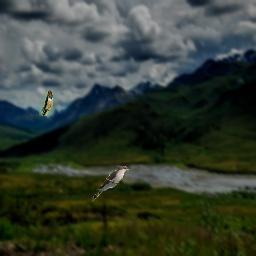Cuckoo: (90, 166, 130, 202)
Swallow: (39, 90, 53, 116)
